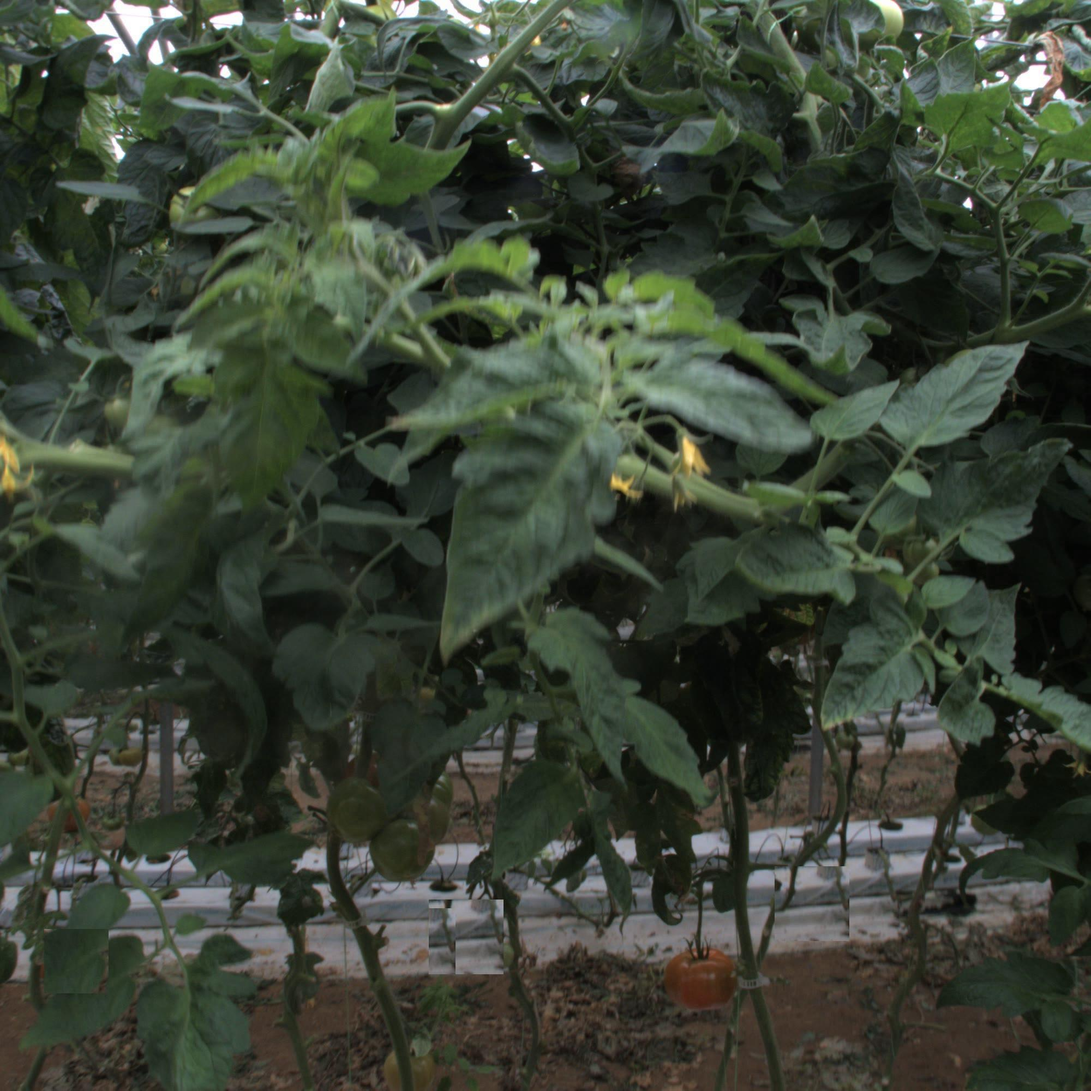semi-ripe: (662, 940, 740, 1018)
unripe: (326, 781, 390, 846), (374, 826, 429, 881)
